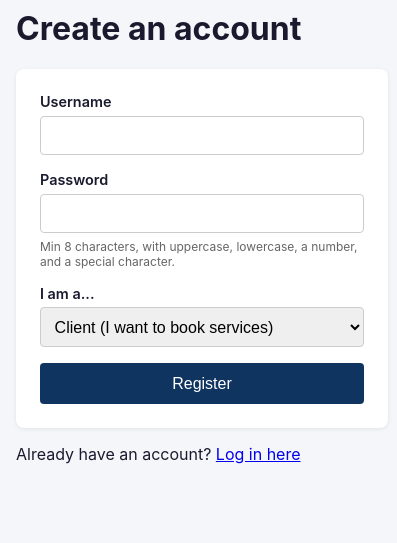
Test case: Register page › shows an error message when registration fails
Type "existinguser" into the field labelled "Username".
click(202, 136); type("existinguser")  # box [40,116,364,155]
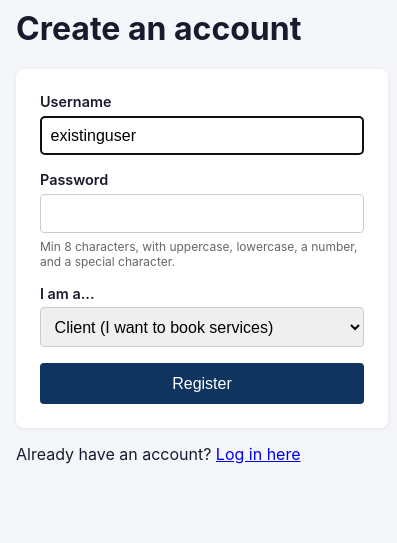
Type "StrongPass1!" into the password field labelled "Password".
click(202, 213); type("StrongPass1!")  # box [40,194,364,233]
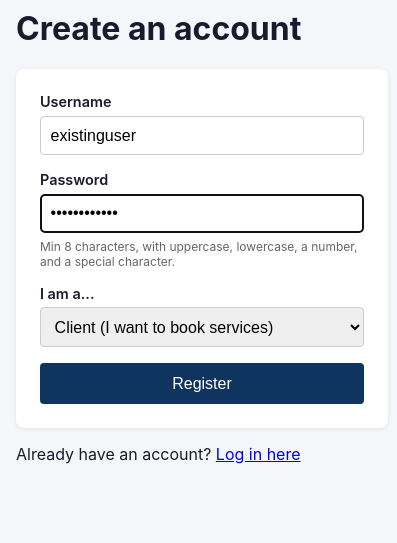
Click the button "Register".
click(202, 384)  # box [40,363,364,404]
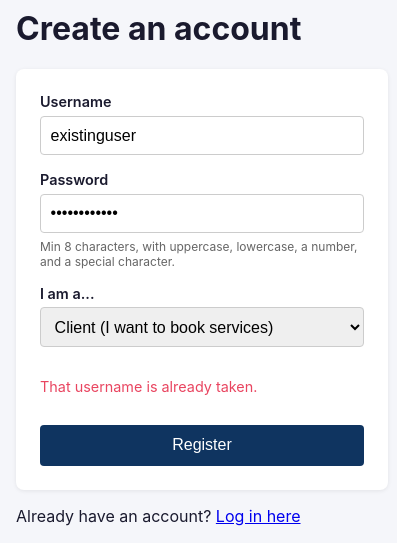
Expected: the text "That username is already taken." is shown, [40,378,257,395]
